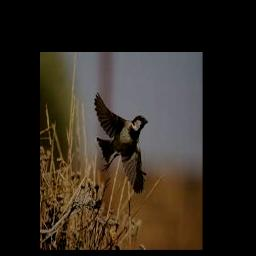Sparrow: (94, 92, 148, 193)
